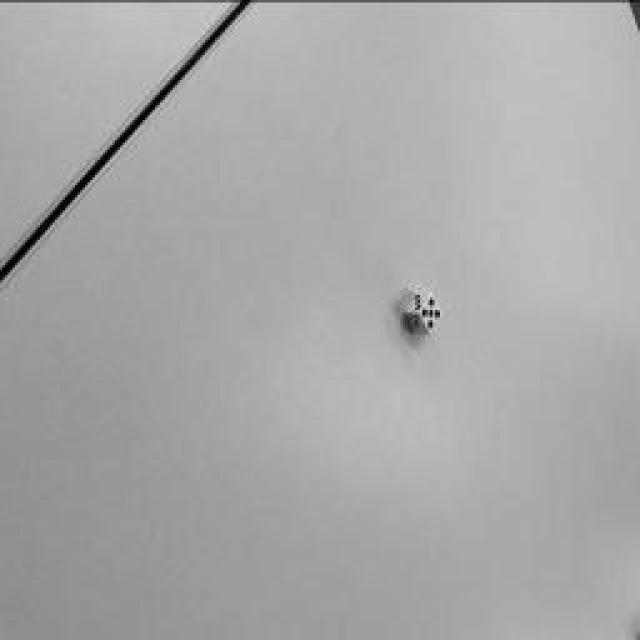dice_5: (420, 292, 442, 332)
